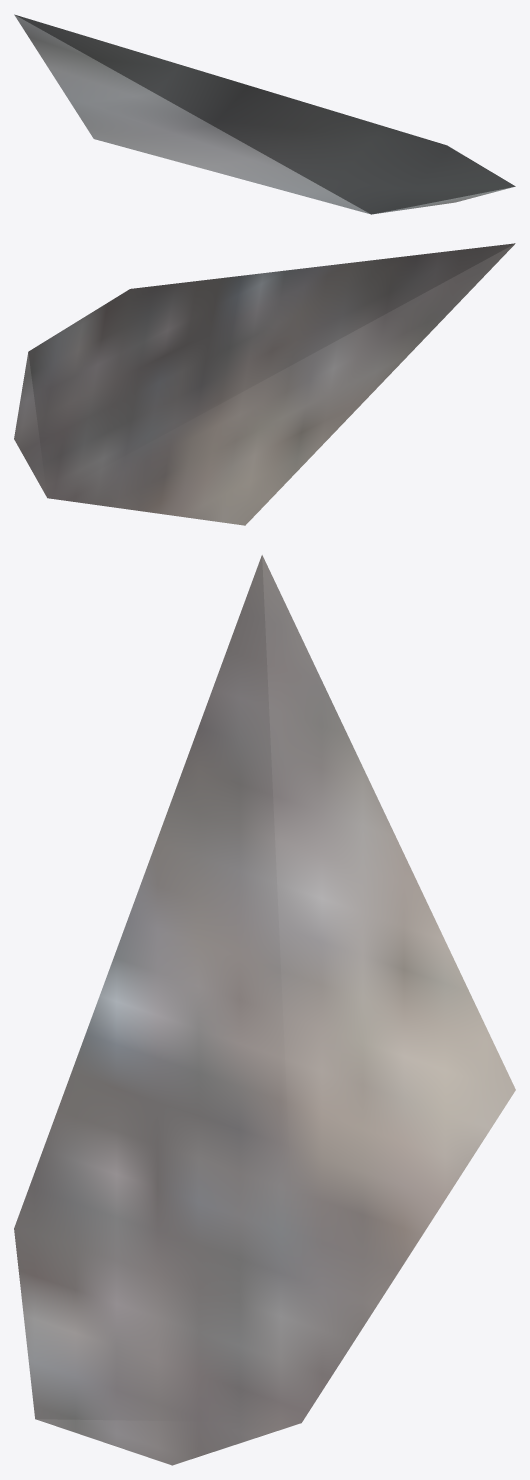
File: Asteroid_Large_001_02_002_03_005.fbx
3 renders of one model, top to bottom at view 1: azimuth 30°, elevation 25°; view 2: azimuth 150°, elevation 25°; view 3: azimuth 270°, elevation 25°, orthographic. The views are drawn at different scales.
Visible parts, largest first — view 1: Asteroid_Large_001_02_002_03_005; view 2: Asteroid_Large_001_02_002_03_005; view 3: Asteroid_Large_001_02_002_03_005.
Boxes of the visible parts, x1,y1,x2,y2 form: Asteroid_Large_001_02_002_03_005: (14,14,515,214); Asteroid_Large_001_02_002_03_005: (14,243,515,525); Asteroid_Large_001_02_002_03_005: (14,555,515,1465).
Bounding box in the file's own units: 0.958 × 0.5793 × 0.4926.
